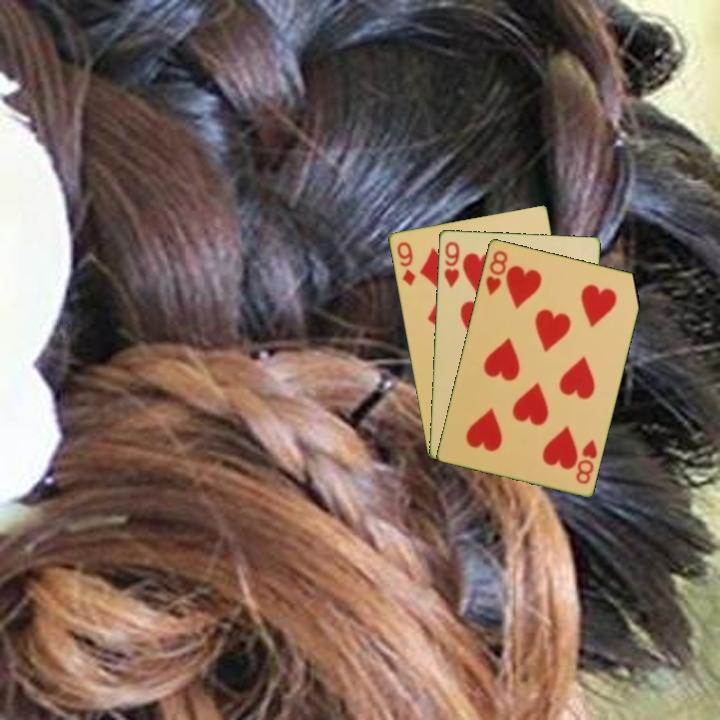8h: (572, 435, 600, 487), (482, 247, 510, 298)
9d: (393, 238, 418, 288)
9h: (441, 238, 462, 290)
